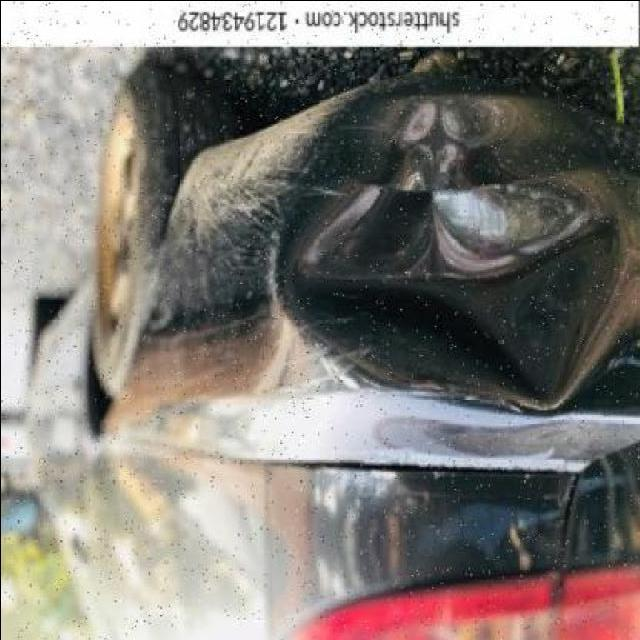rear-bumper-dent: (168, 45, 640, 468)
